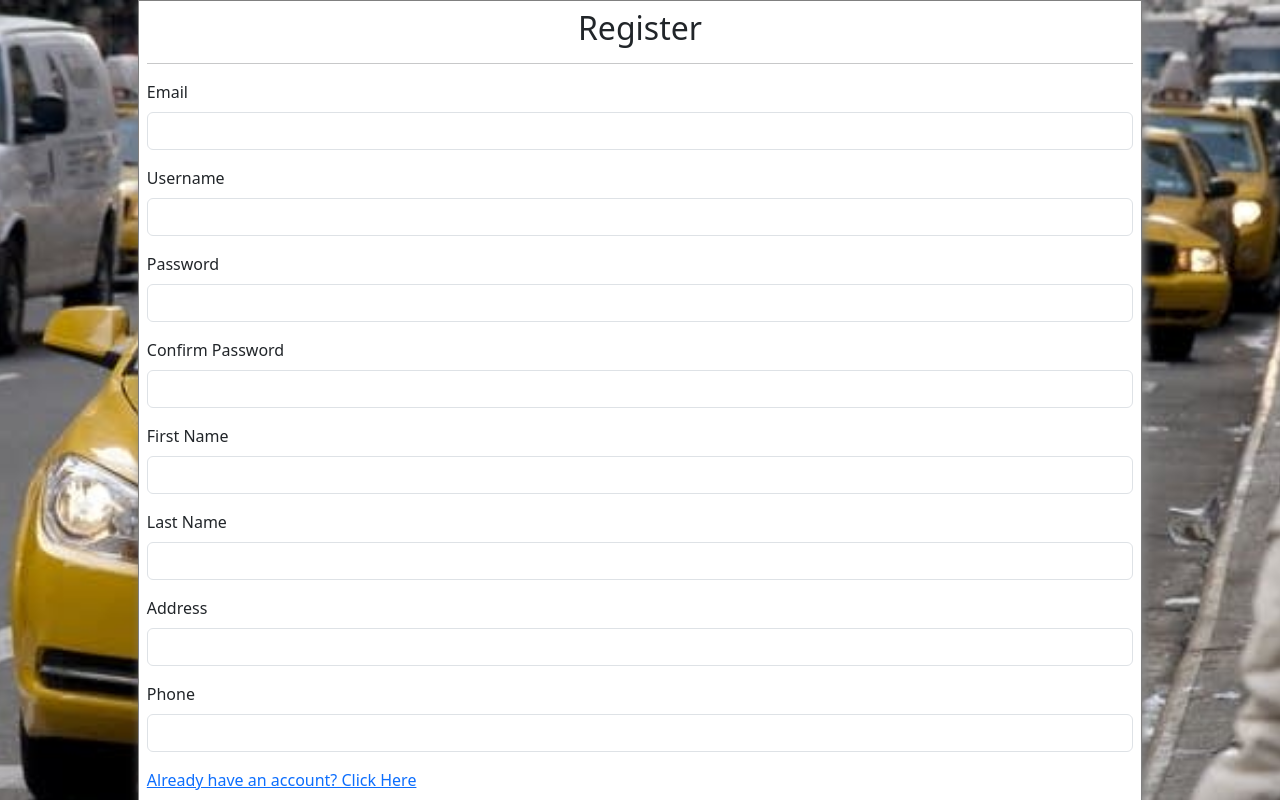
Register page › show general error if thrown
Type "test@example.com" into the field labelled "Email" at (640, 131), box 147,112 -> 1133,150
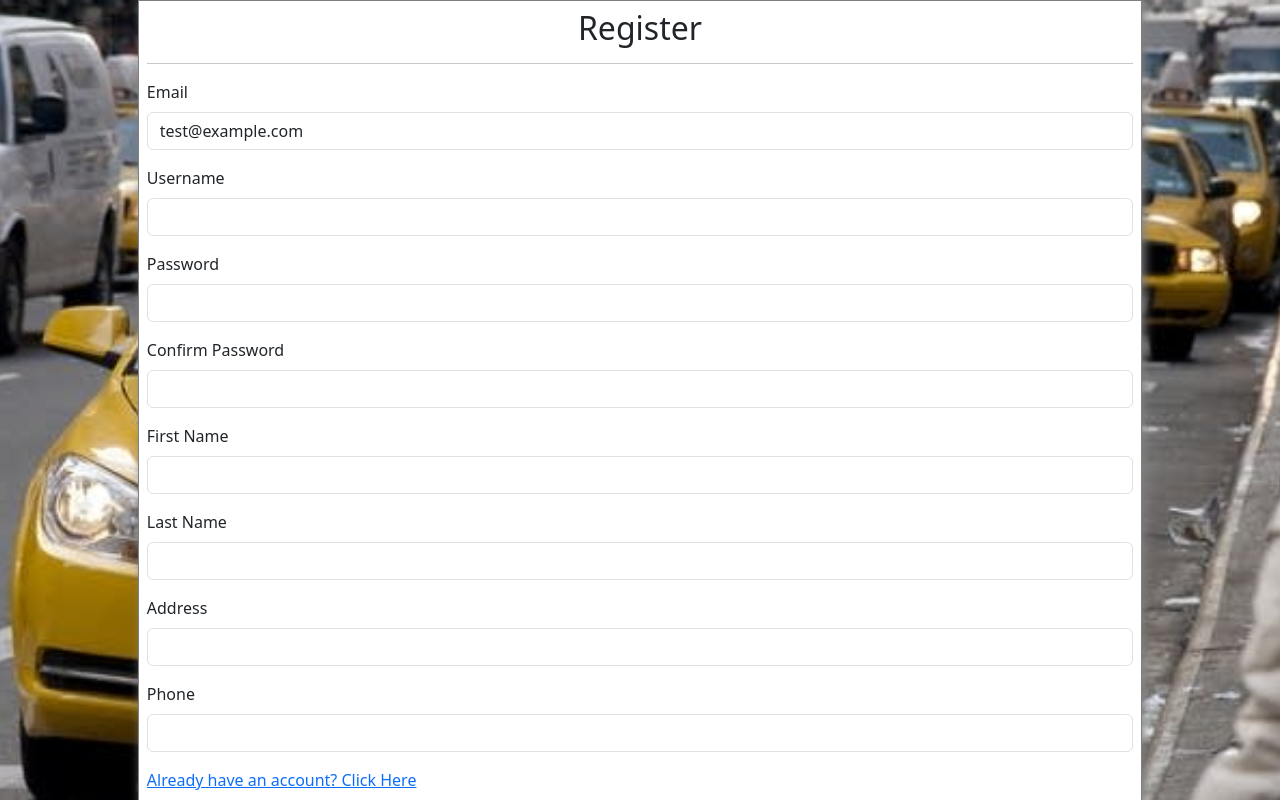
Type "testuser" into the field labelled "Username" at (640, 217), box 147,198 -> 1133,236
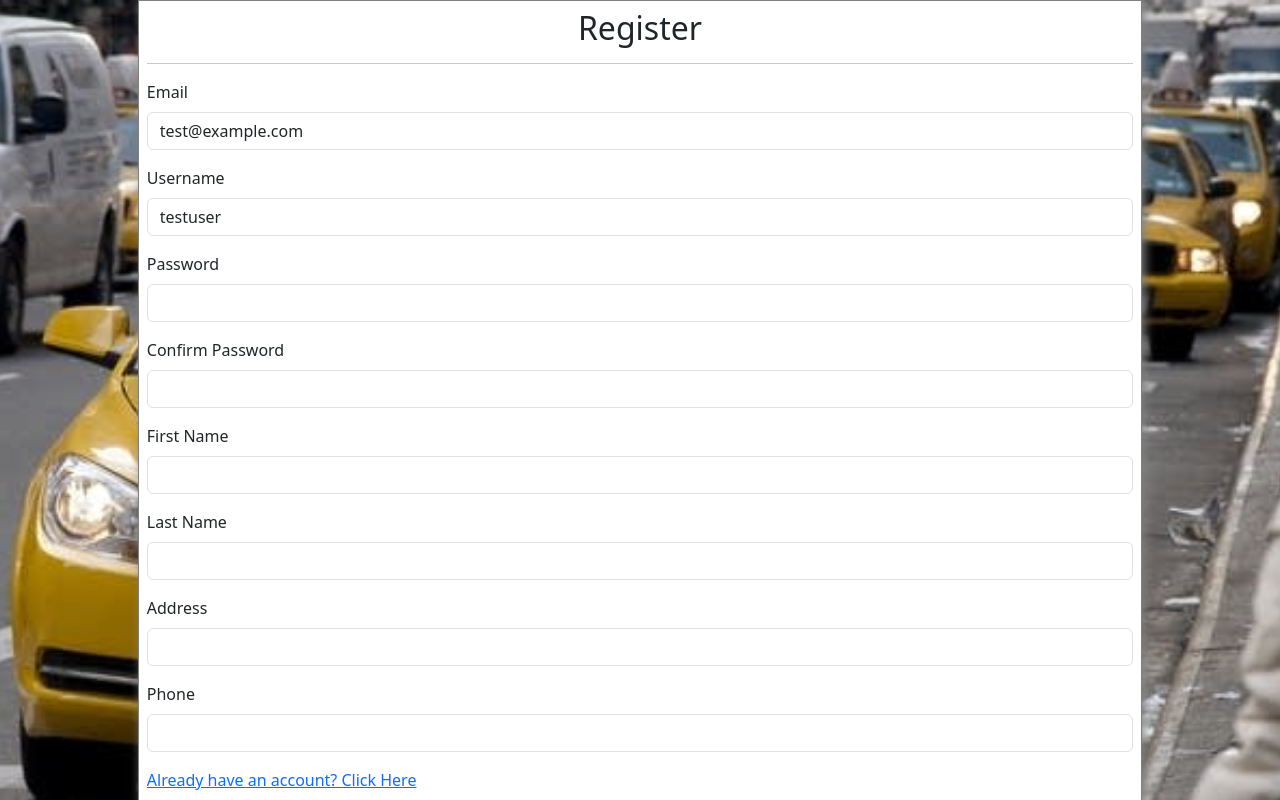
Type "Password12345&" into the password field labelled "Password" at (640, 303), box 147,284 -> 1133,322
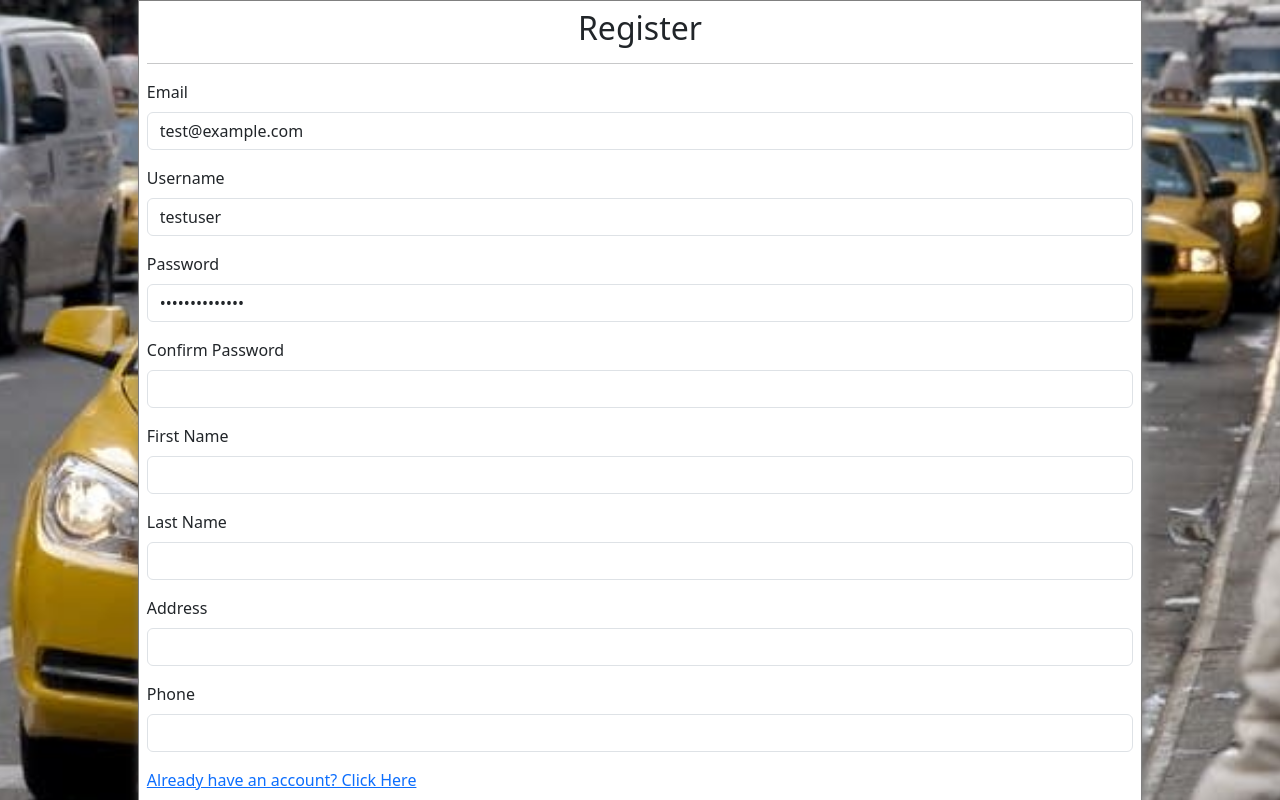
Type "Password12345&" into the password field labelled "Confirm Password" at (640, 389), box 147,370 -> 1133,408
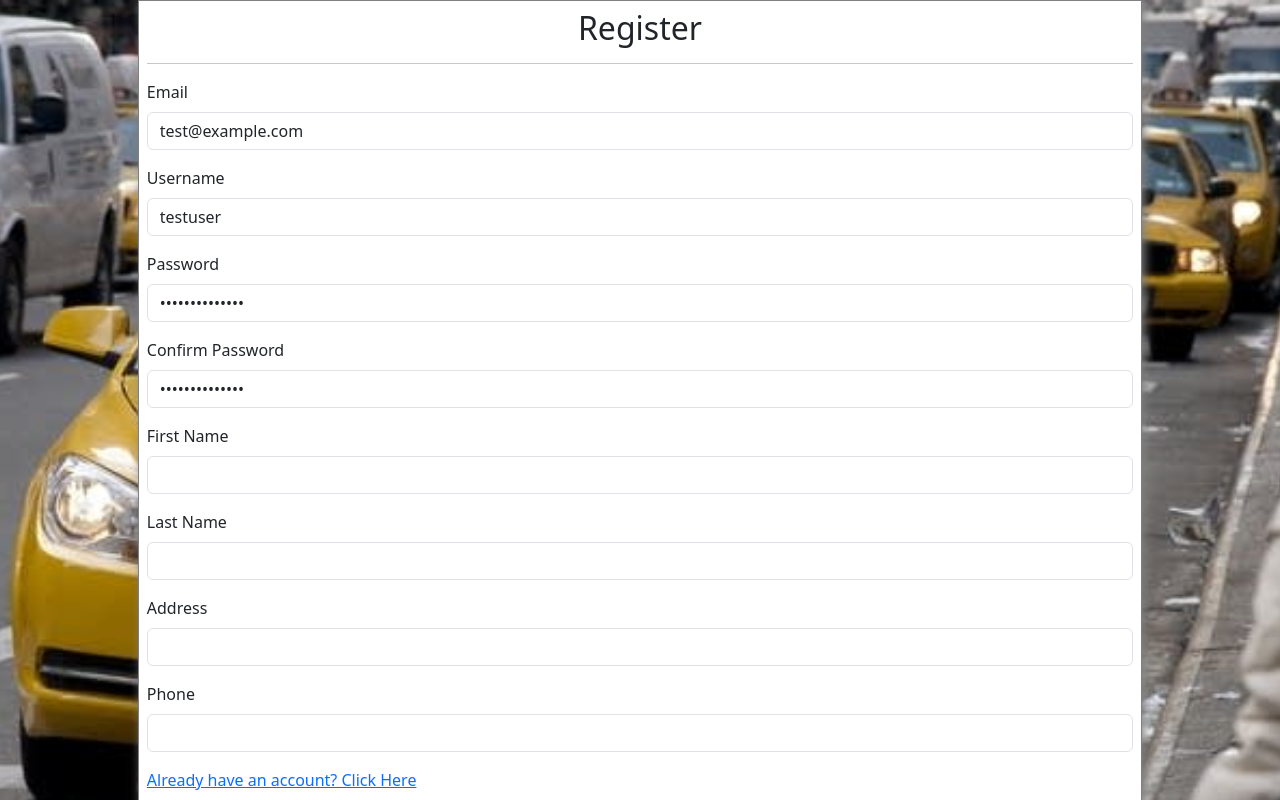
Type "Some address" into the field labelled "Address" at (640, 647), box 147,628 -> 1133,666
(page scrolled)
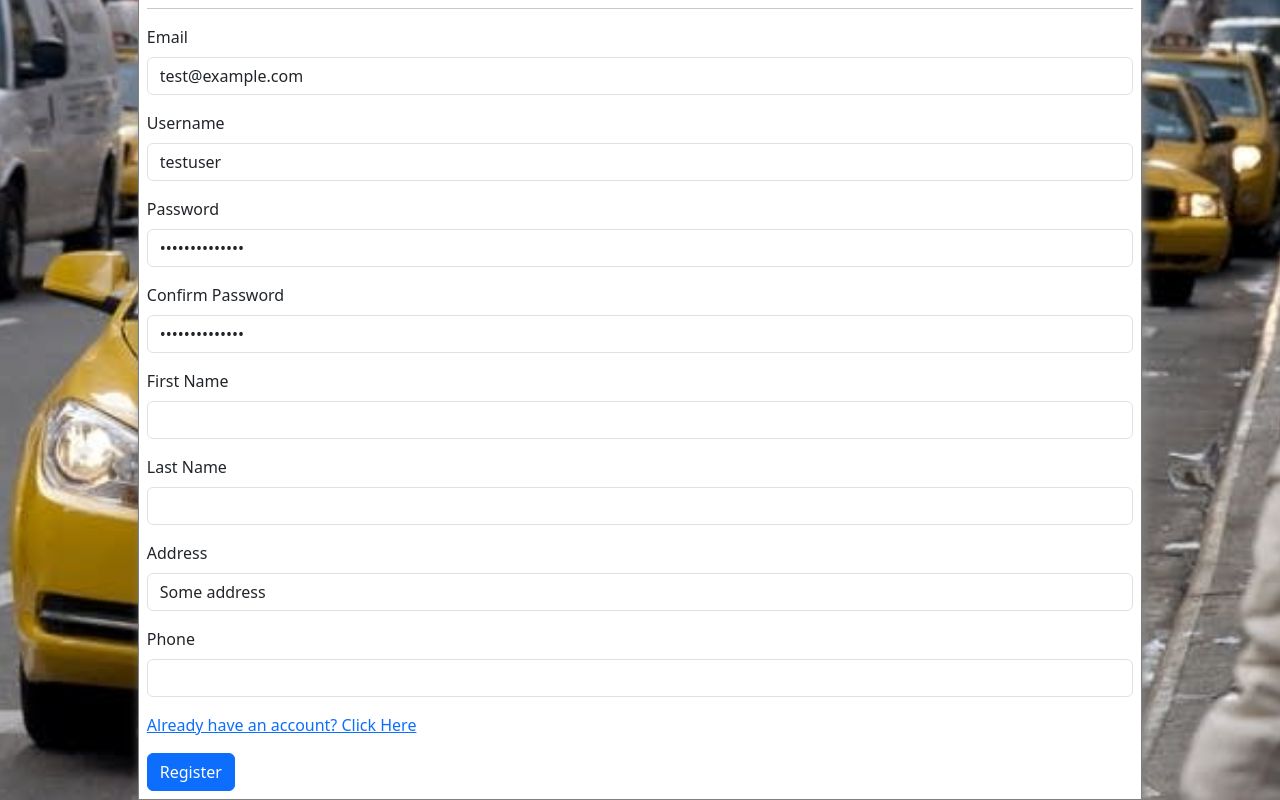
Click the button with test id "submit-btn" at (191, 772), box 147,753 -> 235,791
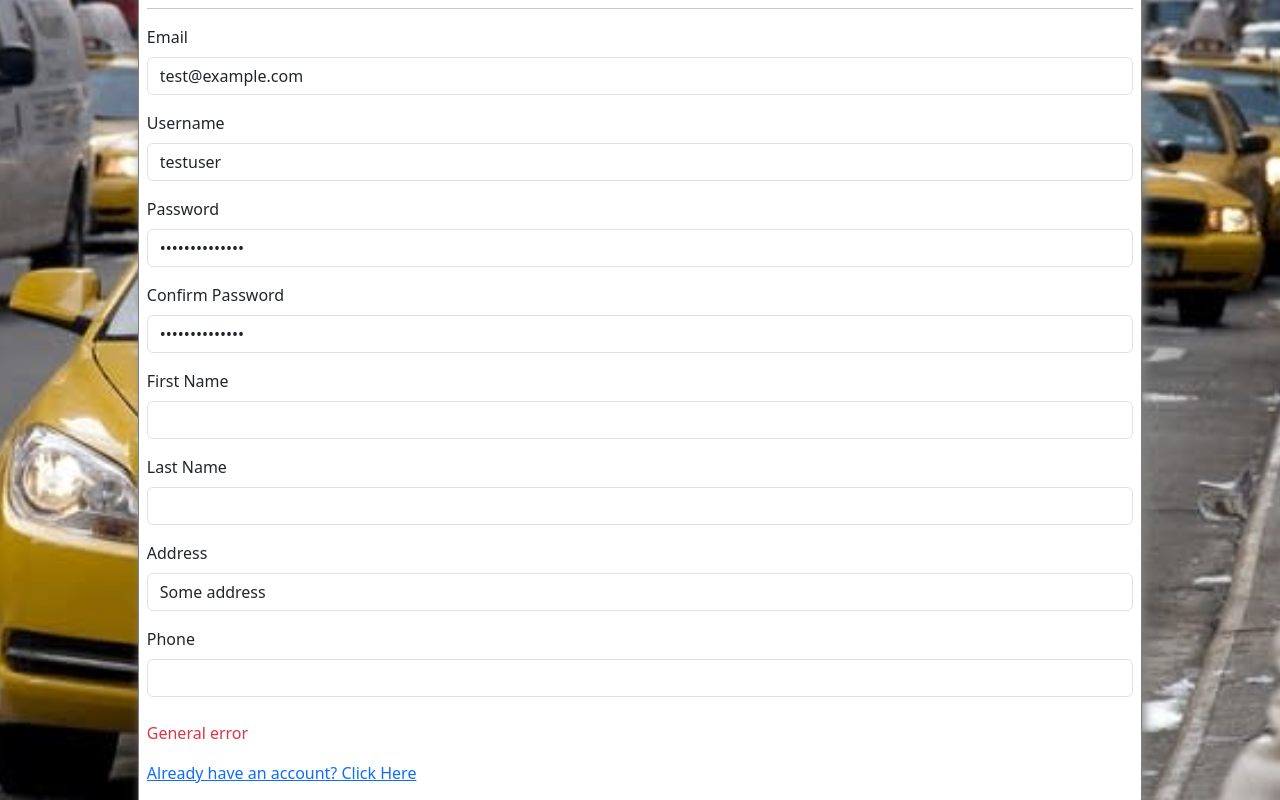
Now the text "General error" is shown, box 147,722 -> 248,744
